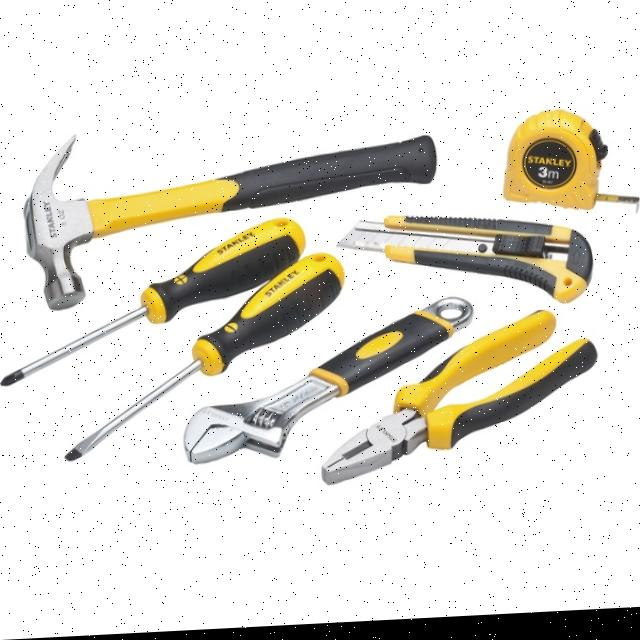Screwdriver: (65, 258, 344, 460), (0, 221, 305, 385)
